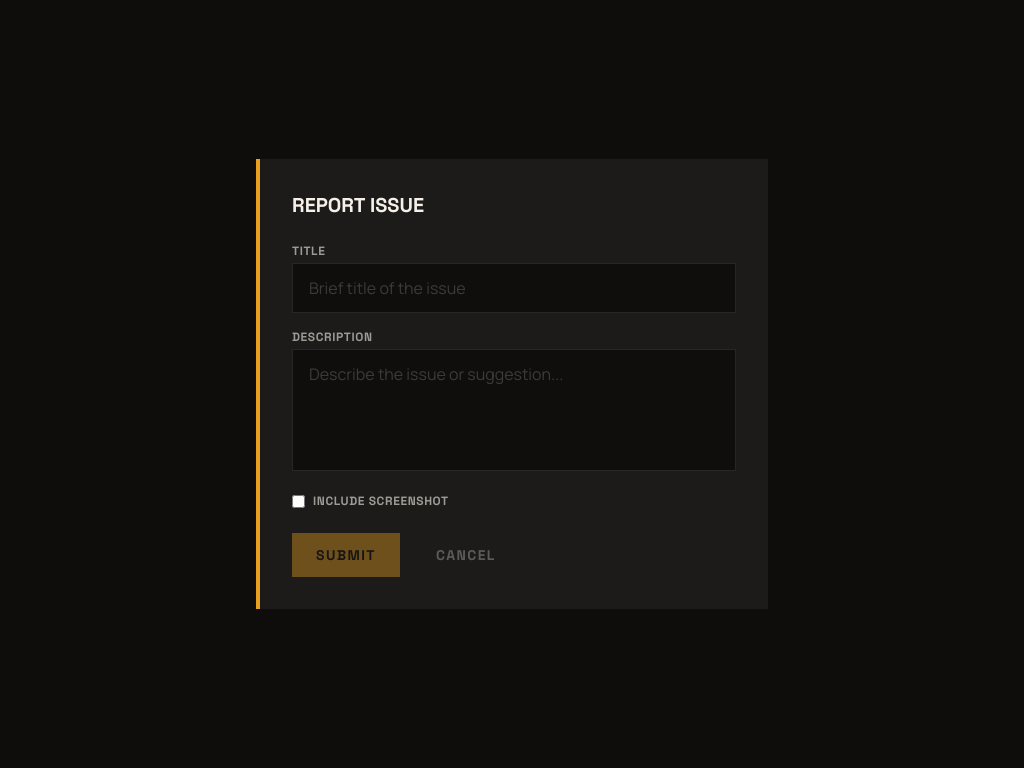
ReportIssueModal › shows error message when submitFeedback rejects
Type "Bug" into the field with placeholder "Brief title of the issue".
click(514, 288); type("Bug")  # box [292,263,736,313]
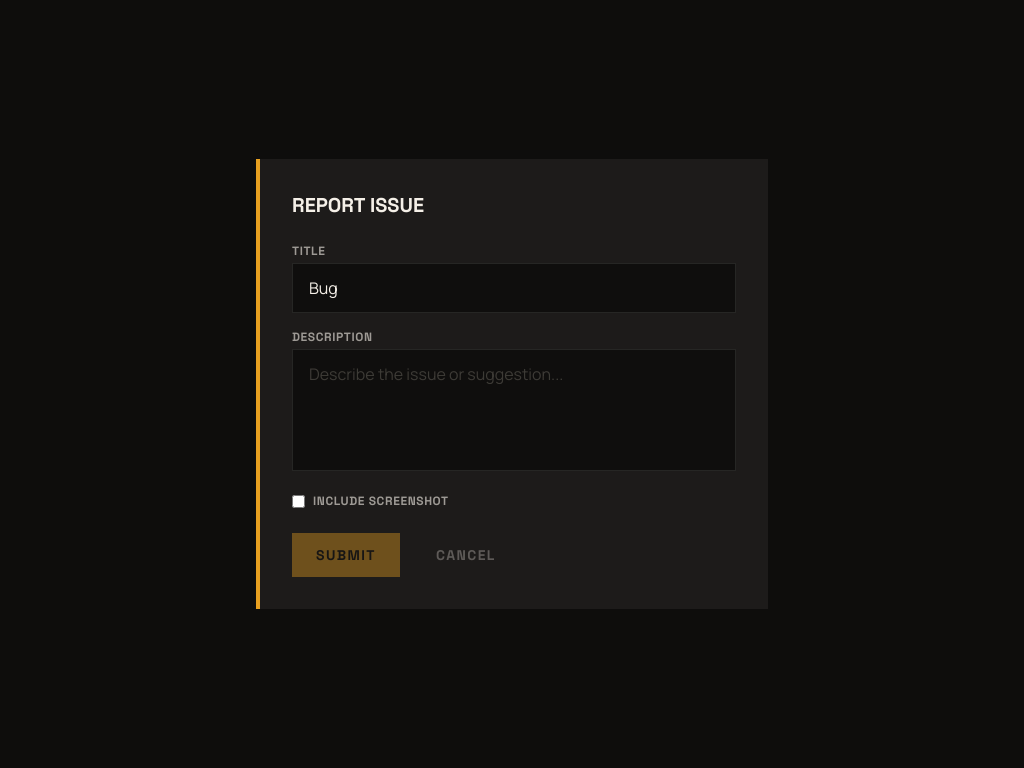
Type "Details" into the text box with placeholder "Describe the issue or suggestion...".
click(514, 410); type("Details")  # box [292,349,736,471]
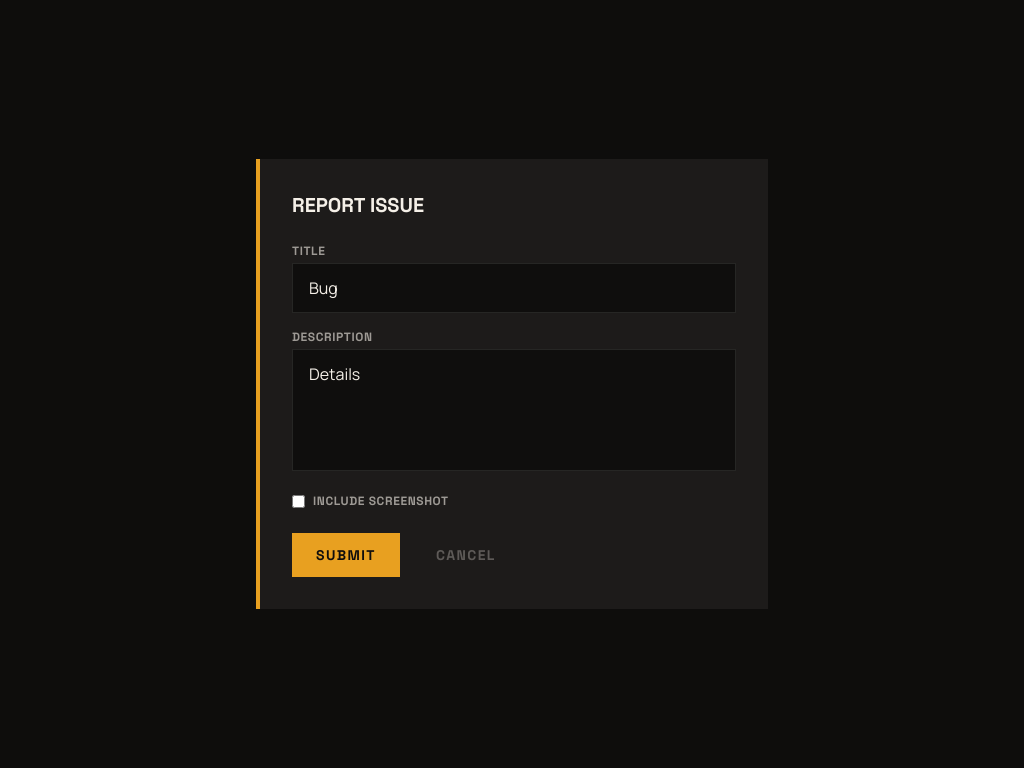
Click the button "Submit".
click(346, 555)  # box [292,533,400,577]
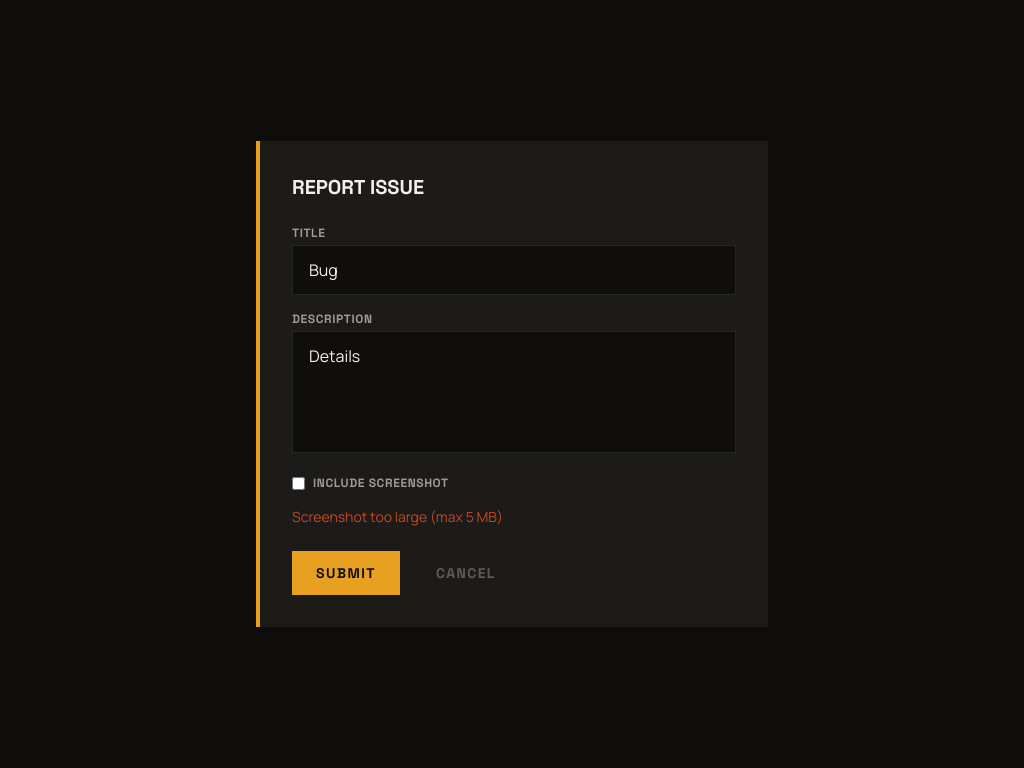
expect the text "Screenshot too large (max 5 MB)" is shown: met, box [292,507,503,526]
